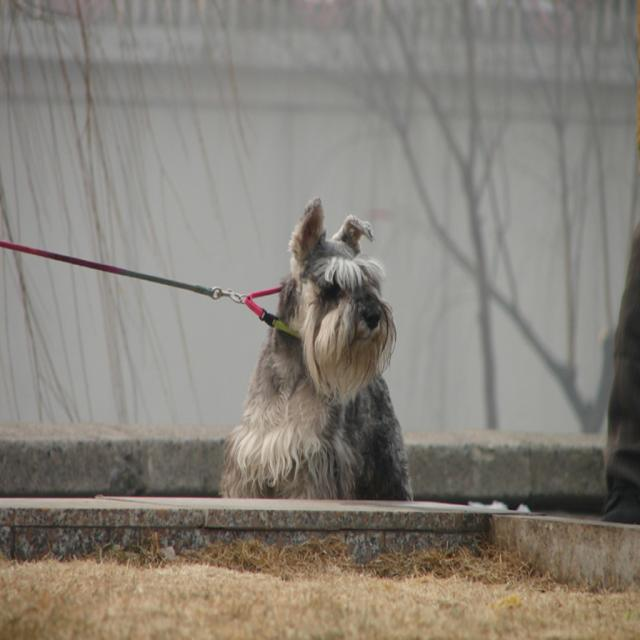Dog: (215, 192, 416, 501)
